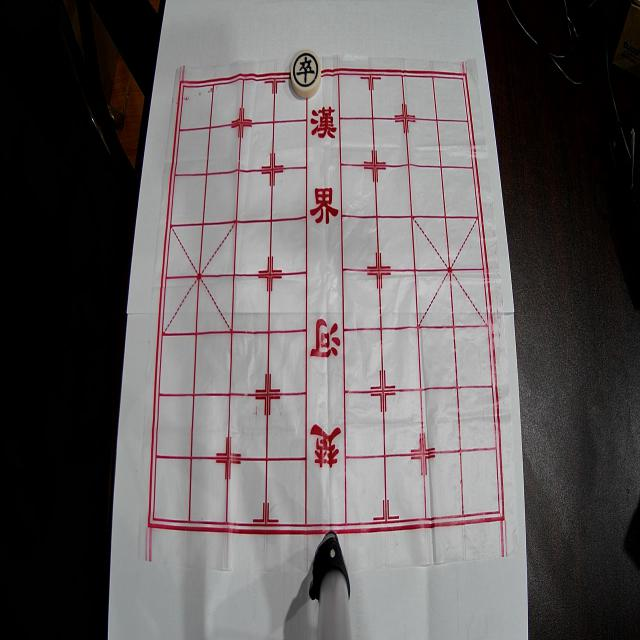black-soldier: (290, 49, 322, 98)
